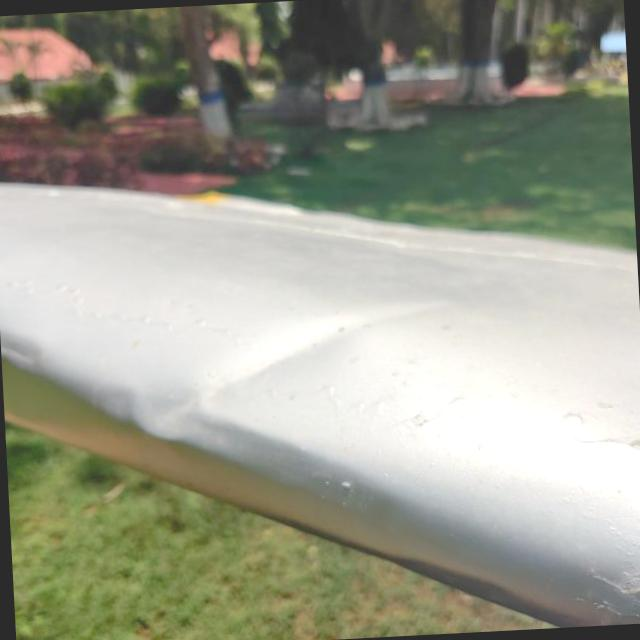dent: (114, 284, 400, 480), (2, 329, 48, 376)
